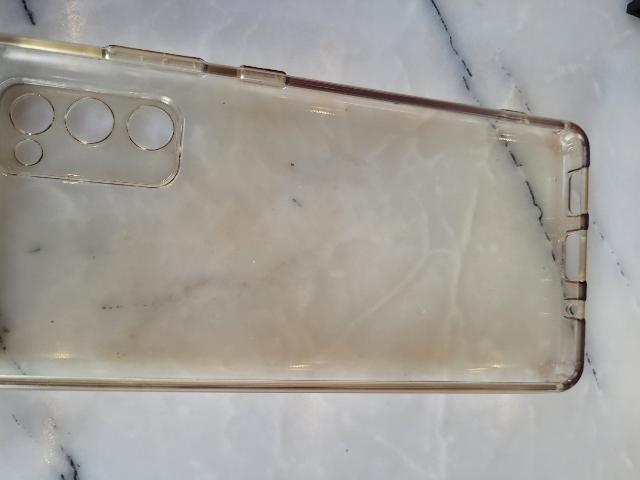Plastik: (0, 29, 600, 405)
